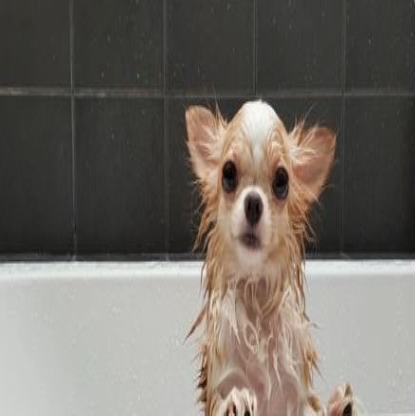chihuahua: (181, 97, 361, 415)
